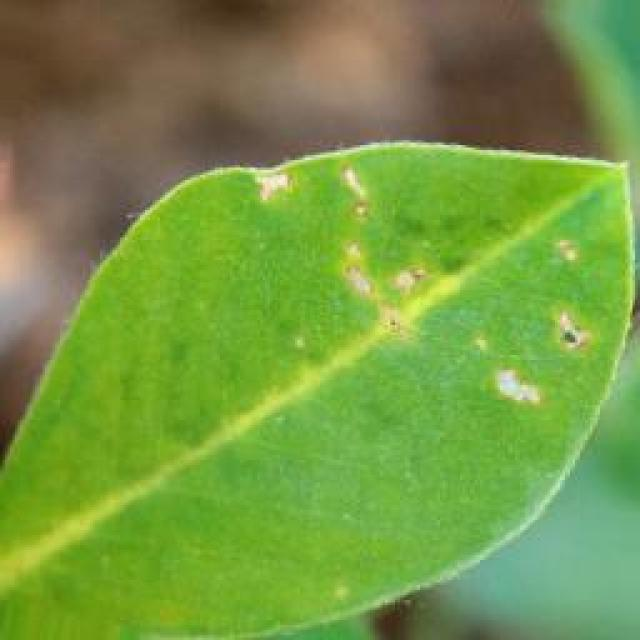Yellow_and_black_sigatoka: (0, 139, 621, 640)
